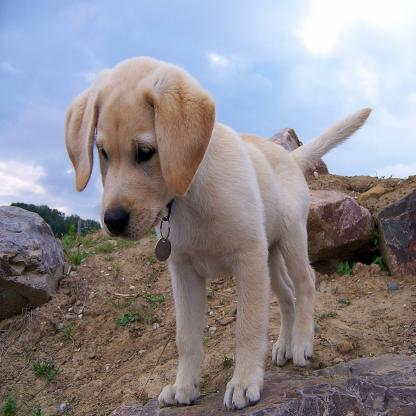dog: (61, 57, 373, 410)
